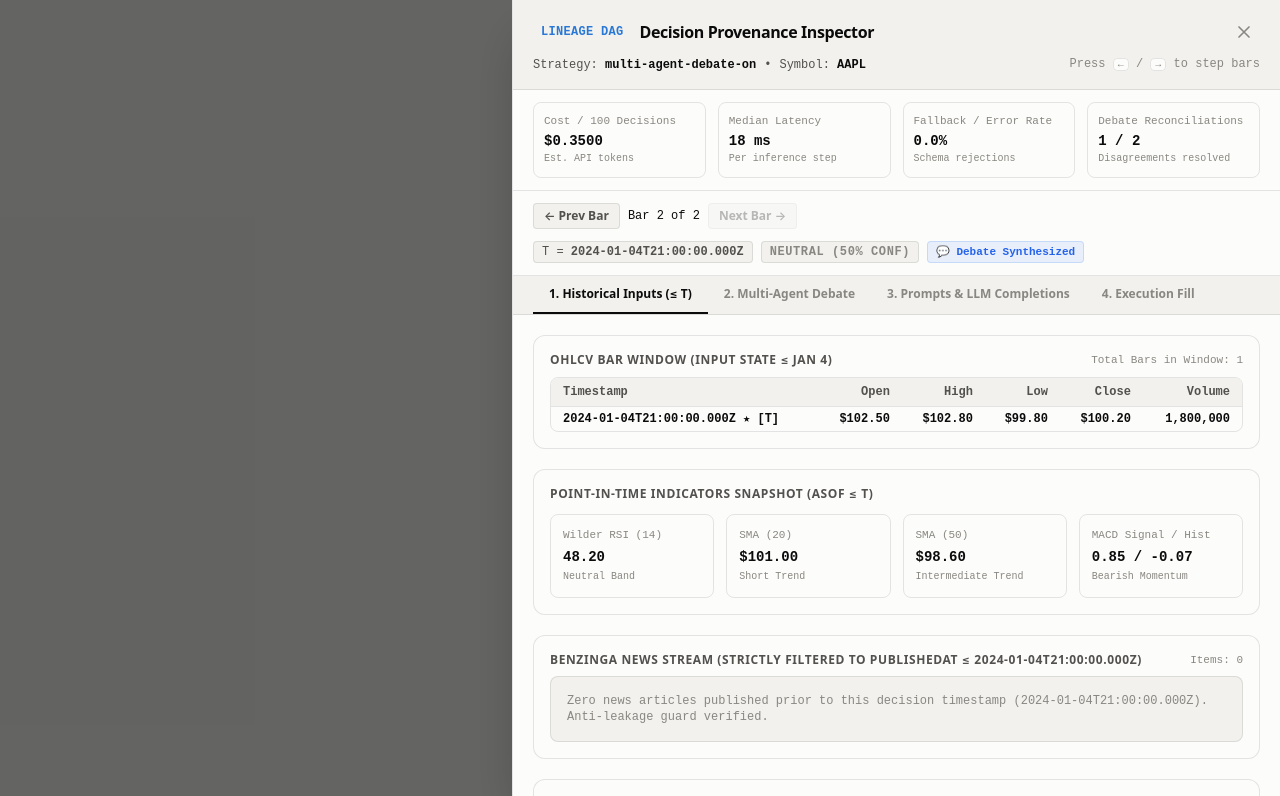
Test case: Decision Lineage DAG Inspector & Telemetry HUD › displays Specialist Votes and Debate Synthesis in Debate tab
This screenshot has width=1280, height=796.
# Switch to Tab 2: Multi-Agent Debate
Click the button "2. Multi-Agent Debate" at (789, 295), box [708, 276, 871, 314]
(page scrolled)
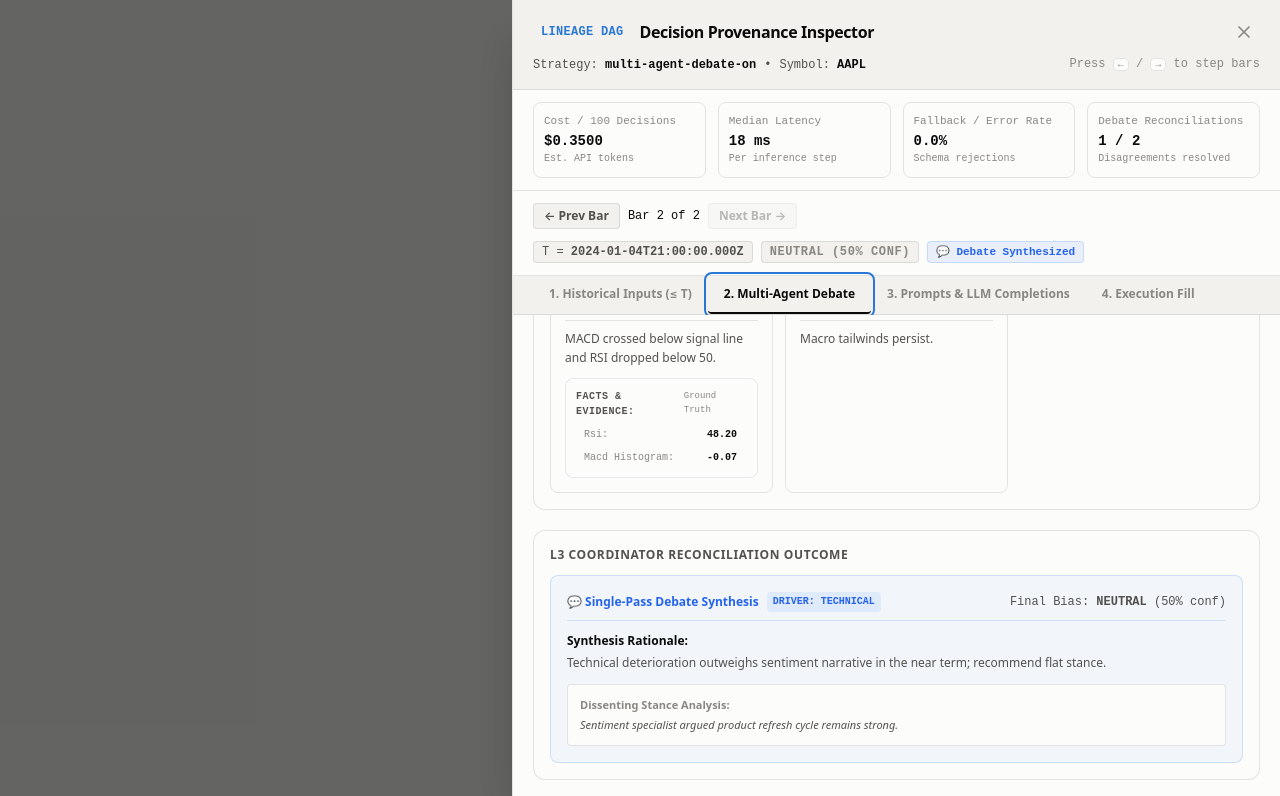
Expected: the text "MACD crossed below signal line and RSI dropped below 50." is shown, [565, 328, 758, 368]
Expected: the text "💬 Single-Pass Debate Synthesis" is shown, [567, 594, 759, 610]
Expected: the text "Driver: technical" is shown, [767, 592, 881, 612]
